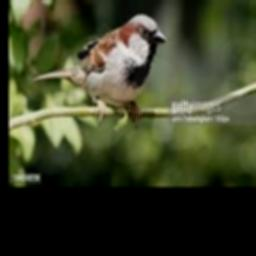Sparrow: (31, 14, 165, 127)
